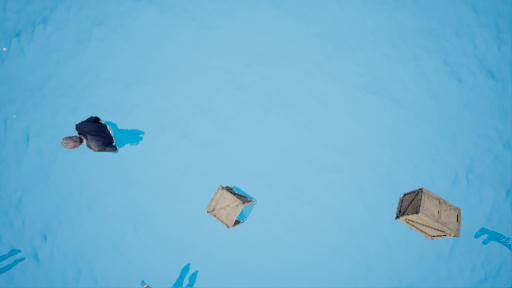person: (61, 113, 161, 163)
